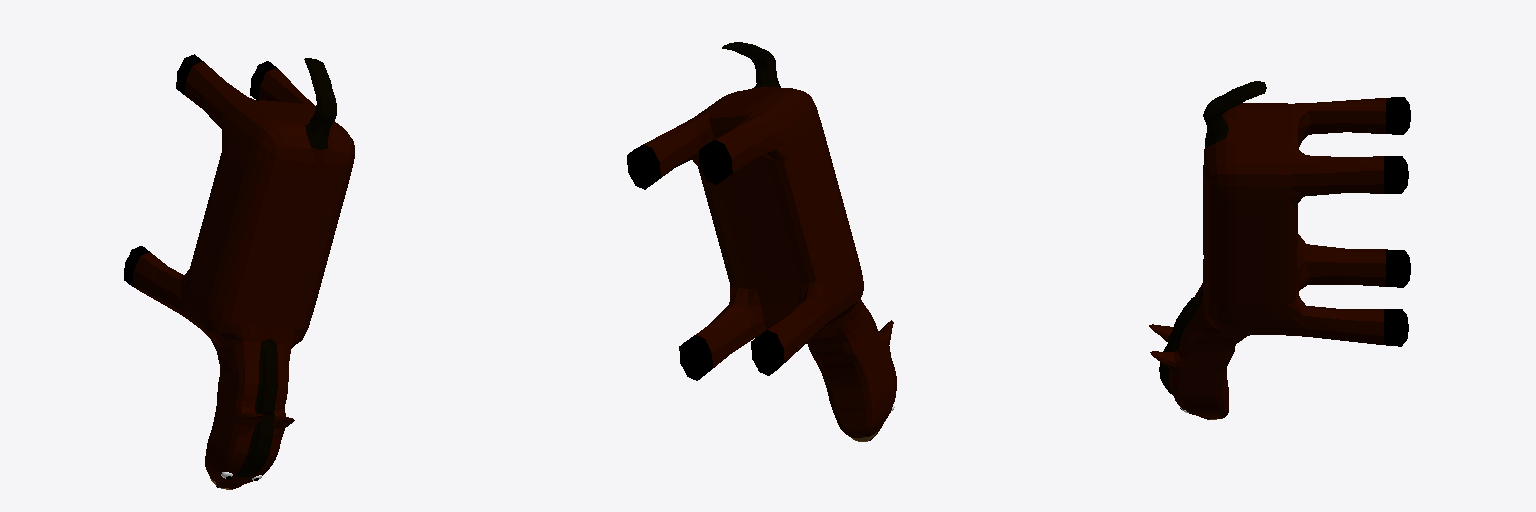
The model's file is horse.obj.
The picture shows the model from 3 angles: view 1: azimuth 30°, elevation 25°; view 2: azimuth 150°, elevation 25°; view 3: azimuth 270°, elevation 25°; orthographic projection.
Visible parts, largest first — view 1: Box001; view 2: Box001; view 3: Box001.
Part boxes in pixels (bbox=[...]): Box001: bbox=[124, 54, 354, 489]; Box001: bbox=[627, 42, 896, 441]; Box001: bbox=[1149, 81, 1410, 419].
Bounding box in the file's own units: 40.16 × 92.47 × 56.82.